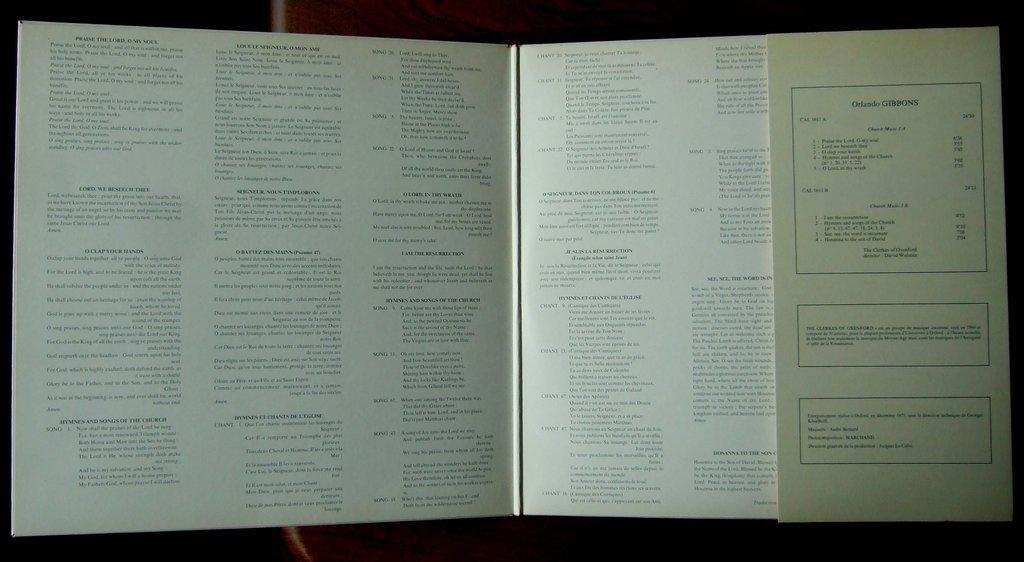book: (10, 17, 1024, 539)
